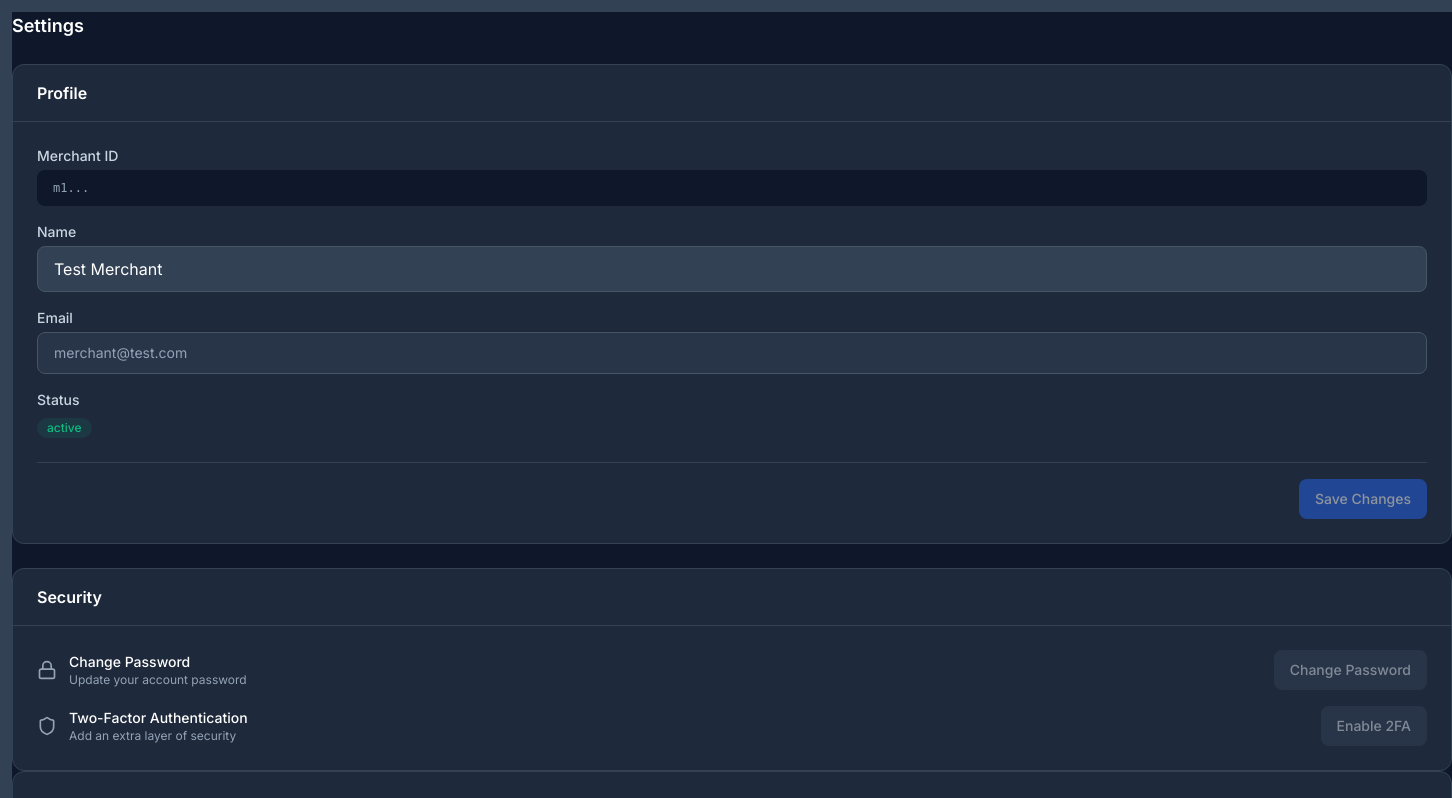
SettingsPage › enables save button when name changed
Replace the text in the field showing "Test Merchant" with "Updated Merchant". click: (732, 269)
box: [37,246,1427,292]
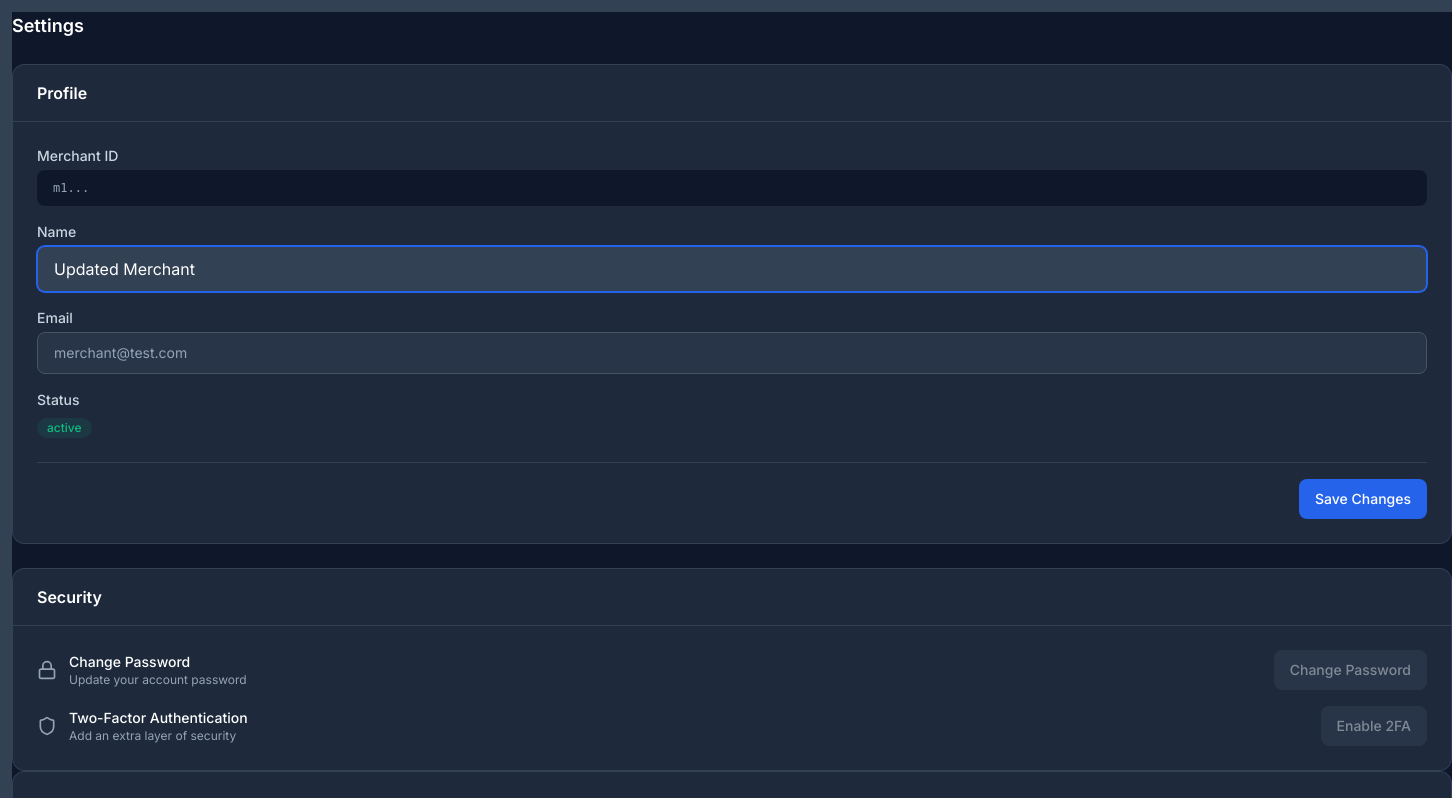
Expected: the button "Save Changes" is enabled, [1299,479,1427,519]
